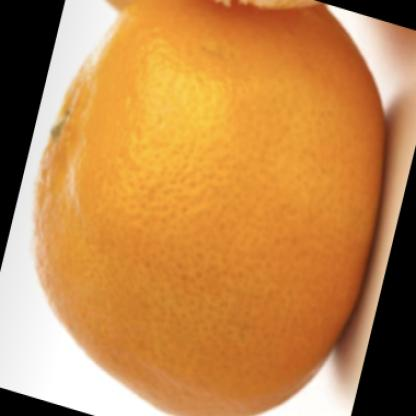fresh: (34, 2, 387, 399)
